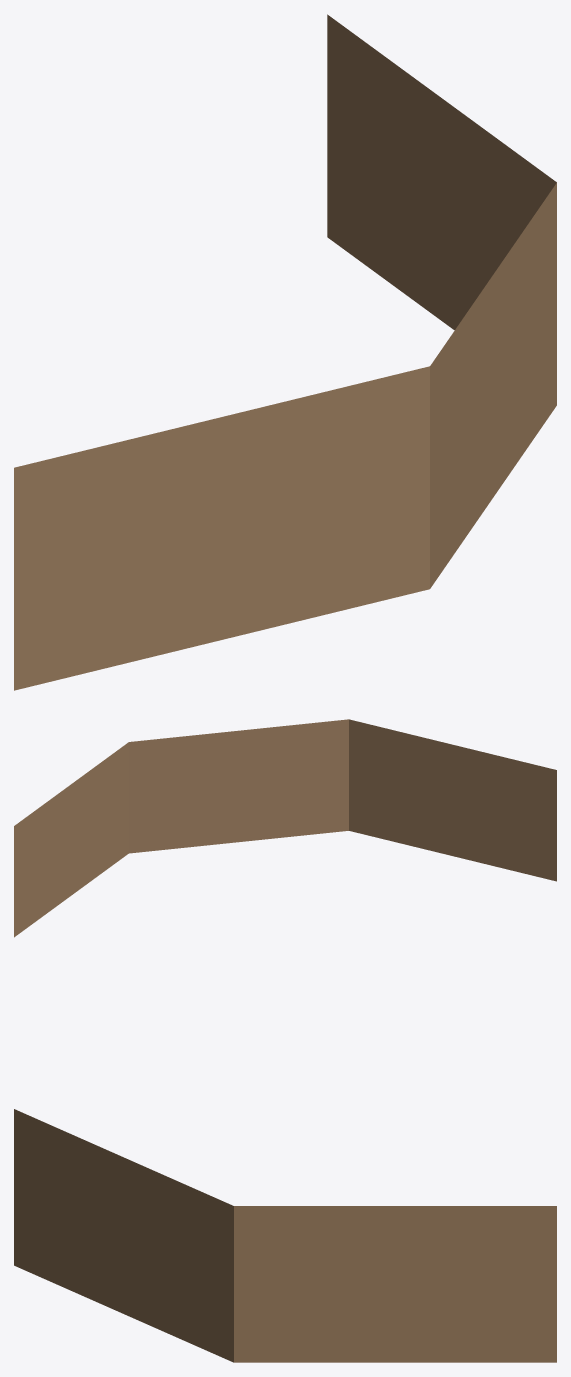
Rendered from 1390-Buildings-shell-pieces-facade-bay-wall-round-an-opening-reveals-sill-head-emitBa.glb.
3 renders of one model, top to bottom at view 1: azimuth 30°, elevation 25°; view 2: azimuth 150°, elevation 25°; view 3: azimuth 270°, elevation 25°, orthographic. The views are drawn at different scales.
Visible parts, largest first — view 1: emitBay; view 2: emitBay; view 3: emitBay.
Part boxes in pixels (x1,y1,x2,y2): emitBay: [14, 14, 556, 690]; emitBay: [14, 719, 556, 937]; emitBay: [14, 1109, 556, 1362].
Bounding box in the file's own units: 10.01 × 3.05 × 9.58.
